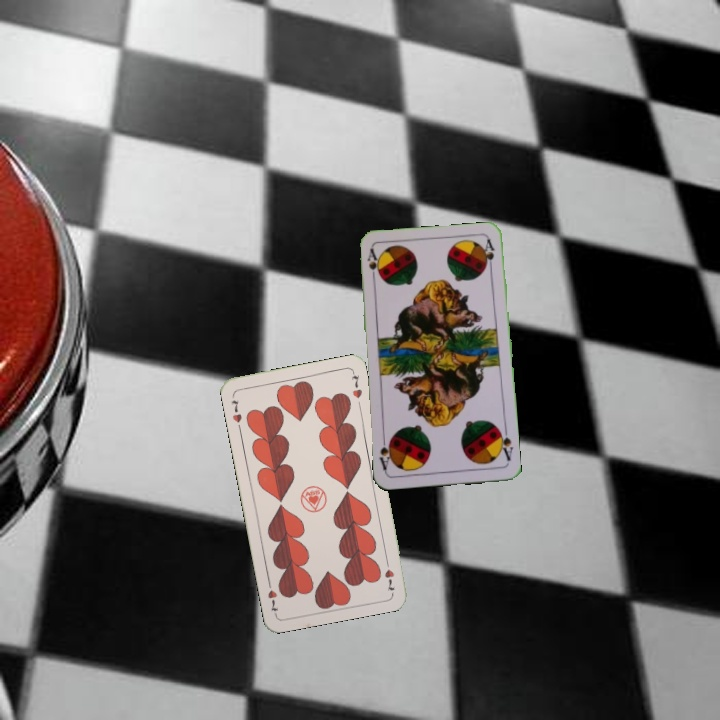H7: (381, 554, 397, 594), (227, 396, 245, 425)
SA: (494, 424, 515, 463), (363, 245, 381, 286)
